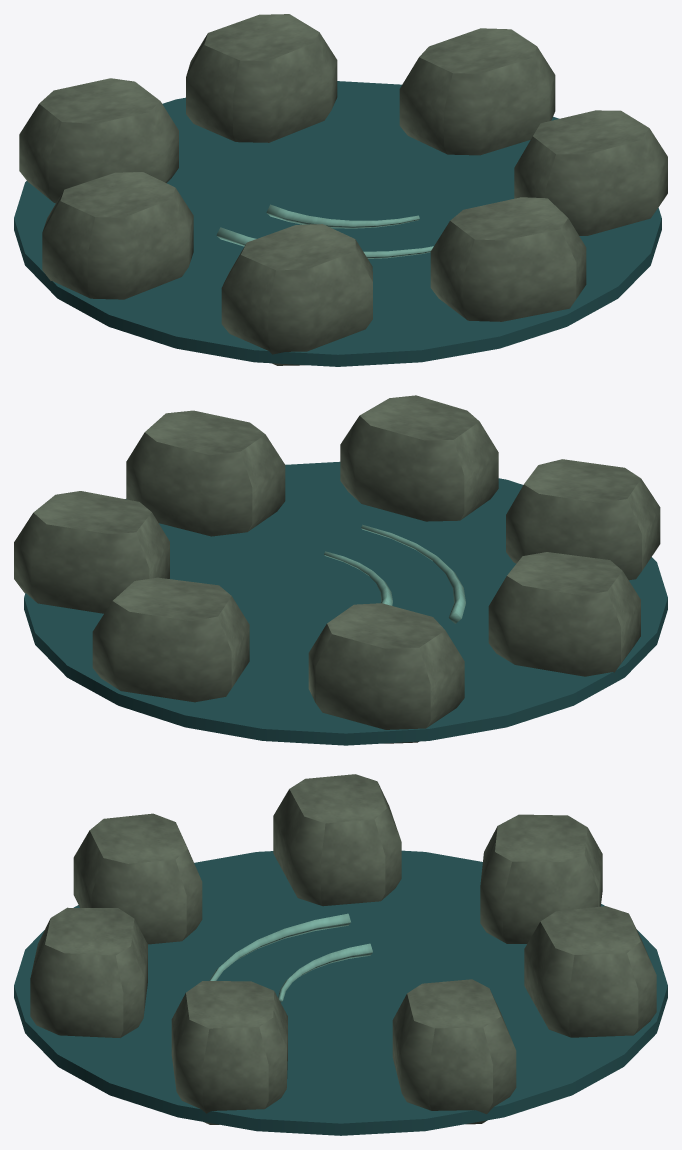
The model's file is ring-spray-pool-3.fbx.
3 renders of one model, top to bottom at view 1: azimuth 30°, elevation 25°; view 2: azimuth 150°, elevation 25°; view 3: azimuth 270°, elevation 25°, orthographic.
Visible parts, largest first — view 1: ring-spray-pool-3__Geometry, ring-spray-pool-3__Water; view 2: ring-spray-pool-3__Geometry, ring-spray-pool-3__Water; view 3: ring-spray-pool-3__Geometry, ring-spray-pool-3__Water.
Boxes of the visible parts, x1,y1,x2,y2 form: ring-spray-pool-3__Geometry: (19, 14, 667, 365); ring-spray-pool-3__Water: (14, 81, 661, 366); ring-spray-pool-3__Geometry: (14, 395, 660, 743); ring-spray-pool-3__Water: (24, 461, 667, 745); ring-spray-pool-3__Geometry: (30, 774, 656, 1124); ring-spray-pool-3__Water: (14, 850, 667, 1135).
Size of the model in its own units: 0.9797 by 0.16 by 0.97.
